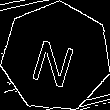N_N: (29, 27, 82, 87)
